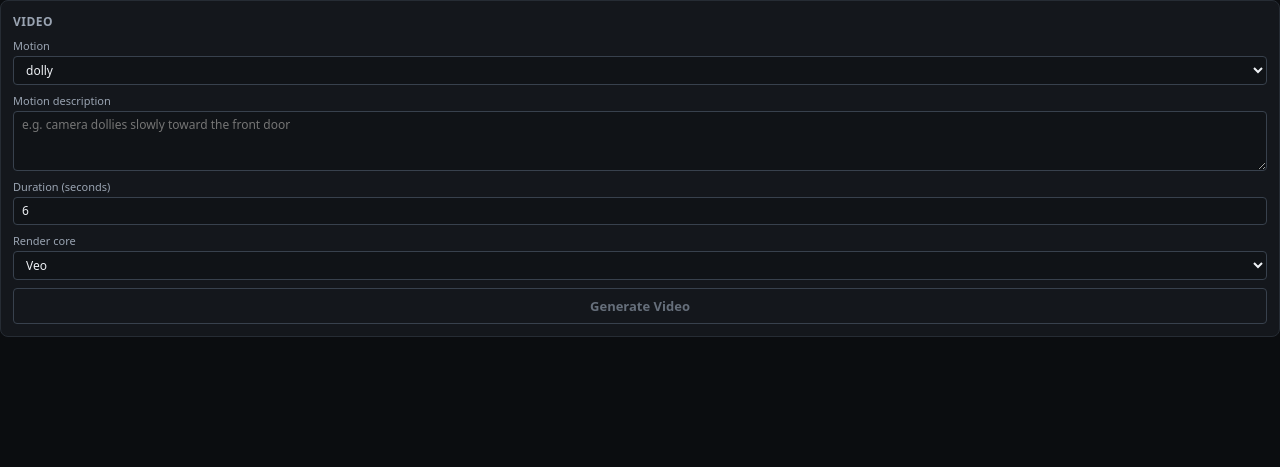
Test case: VideoPanel — BUILD 16 Image → Video › real, genuinely asynchronous video flow against apps/api › shows the real error envelope, not a fake result, when submission fails
Type "camera dollies toward the entrance" into the text box labelled "Motion description".
click(640, 141); type("camera dollies toward the entrance")  # box [13,111,1267,171]
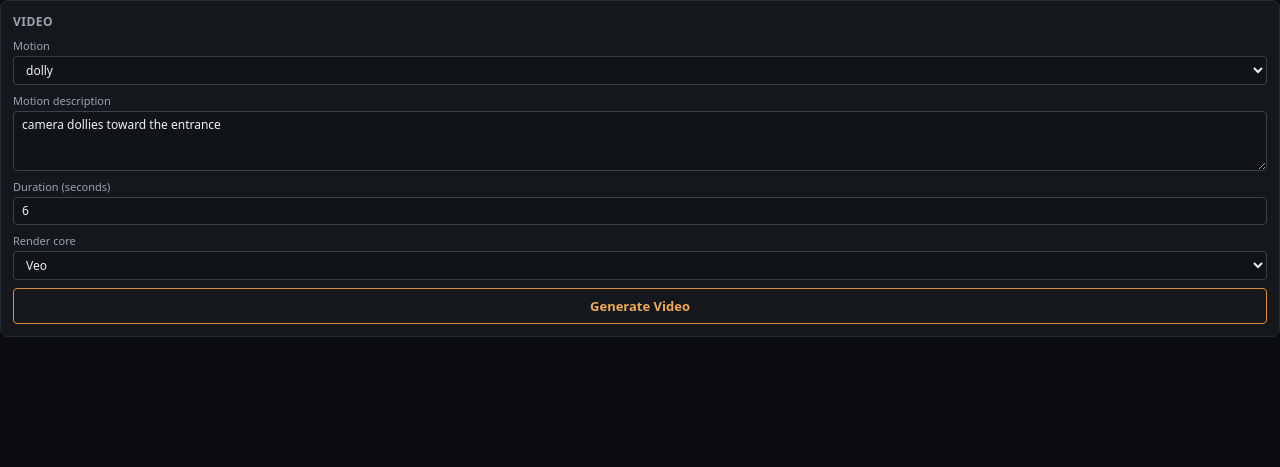
Click the button "Generate Video".
click(640, 306)  # box [13,288,1267,324]
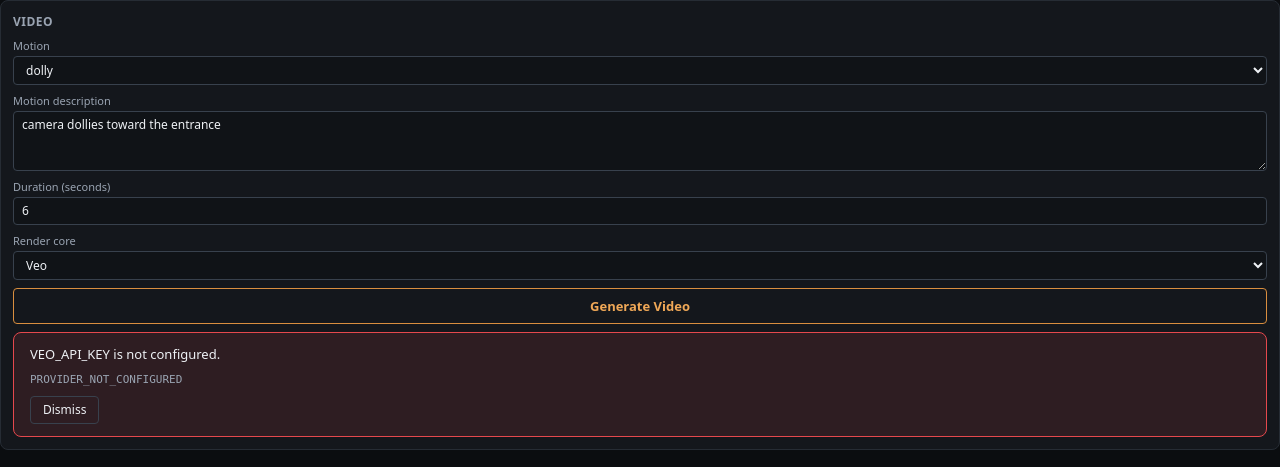
Now the message shows "VEO_API_KEY is not configured.", box [30,345,220,363]
